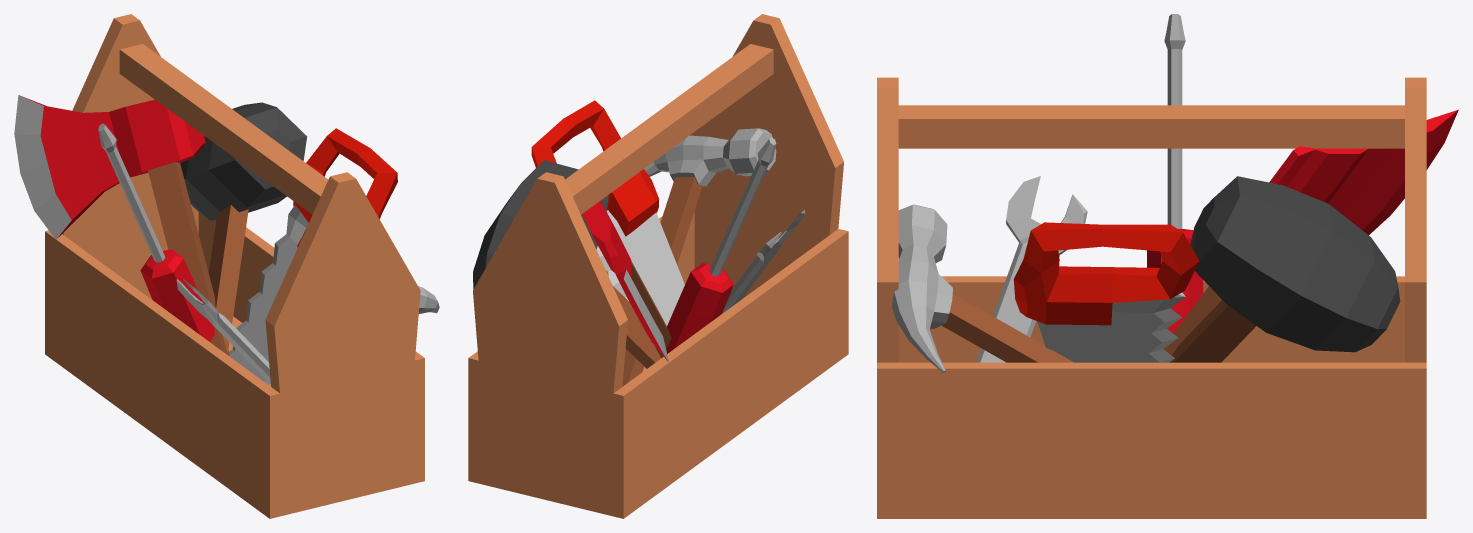
Rendered from toolbox.fbx.
3 views of the same model, side by side, from view 1: azimuth 30°, elevation 25°; view 2: azimuth 150°, elevation 25°; view 3: azimuth 270°, elevation 25° (orthographic). The views are drawn at different scales.
Parts seen in each view (by area): view 1: Cube, Cube.001, Cylinder.002, Cylinder.001, Cube.002, Cube.004, Cube.005, Torus.001, Torus; view 2: Cube, Cylinder.001, Torus.001, Cylinder, Cube.004, Cube.001, Cube.003, Cylinder.002, Torus, Cube.005, Cube.002; view 3: Cube, Cylinder.002, Torus.001, Cube.001, Cylinder, Cube.004, Cylinder.001, Torus, Cube.003, Cube.005, Cube.002.
Boxes of the visible parts, left/top/right/bottom form: Cube: left=45, top=14, right=424, bottom=518; Cube.001: left=14, top=95, right=205, bottom=239; Cylinder.002: left=180, top=102, right=307, bottom=220; Cylinder.001: left=98, top=123, right=214, bottom=341; Cube.002: left=148, top=162, right=229, bottom=355; Cube.004: left=229, top=205, right=308, bottom=384; Cube.005: left=208, top=205, right=248, bottom=353; Torus.001: left=293, top=128, right=397, bottom=247; Torus: left=176, top=279, right=270, bottom=384; Cube: left=468, top=14, right=848, bottom=518; Cylinder.001: left=666, top=137, right=776, bottom=353; Torus.001: left=531, top=100, right=658, bottom=236; Cylinder: left=644, top=128, right=776, bottom=186; Cube.004: left=596, top=210, right=684, bottom=325; Cube.001: left=582, top=201, right=668, bottom=362; Cube.003: left=622, top=177, right=702, bottom=386; Cylinder.002: left=473, top=160, right=608, bottom=289; Torus: left=722, top=210, right=805, bottom=313; Cube.005: left=613, top=286, right=661, bottom=368; Cube.002: left=631, top=261, right=671, bottom=357; Cube: left=877, top=77, right=1426, bottom=518; Cylinder.002: left=1190, top=176, right=1400, bottom=352; Torus.001: left=1013, top=222, right=1199, bottom=325; Cube.001: left=1269, top=109, right=1458, bottom=235; Cylinder: left=891, top=204, right=952, bottom=372; Cube.004: left=1037, top=292, right=1185, bottom=362; Cylinder.001: left=1147, top=14, right=1203, bottom=333; Torus: left=976, top=176, right=1087, bottom=362; Cube.003: left=941, top=294, right=1073, bottom=362; Cube.005: left=1169, top=300, right=1256, bottom=362; Cube.002: left=1163, top=286, right=1221, bottom=355.
Size of the model in its own units: 220 by 274 by 370.
